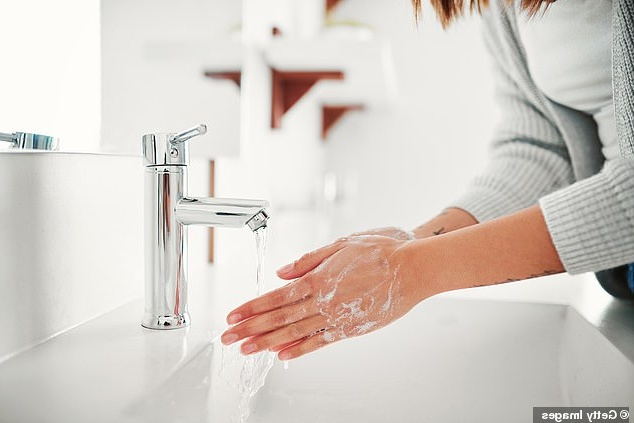washing hand: (90, 45, 442, 404)
